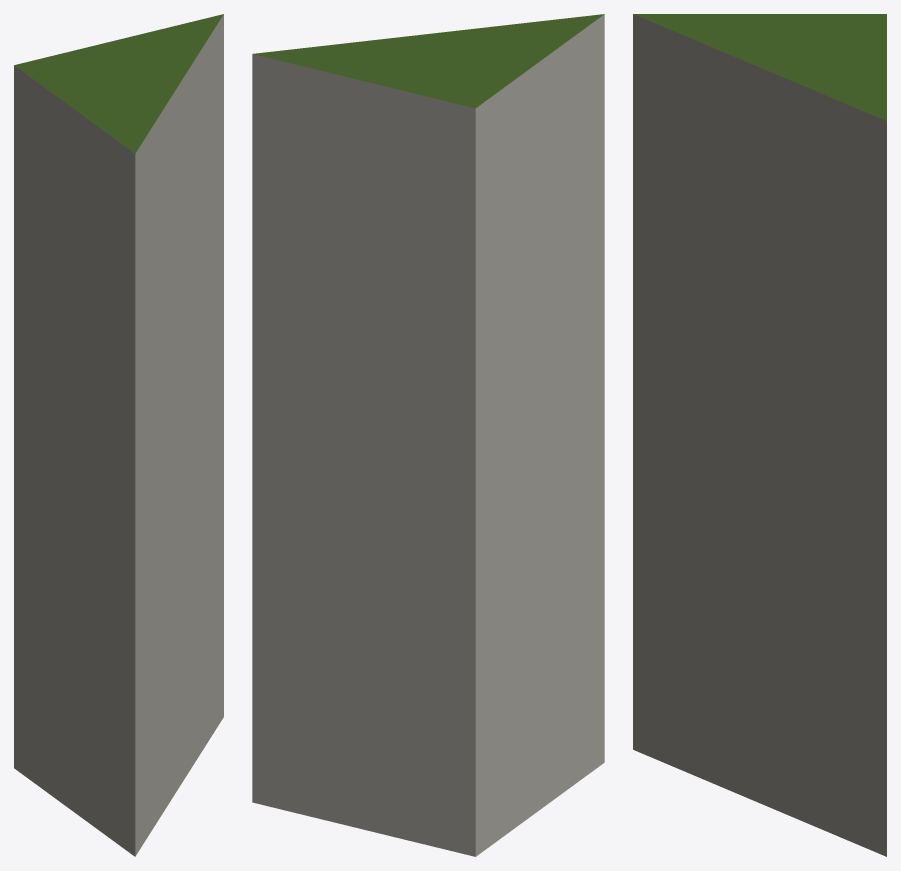
Rendered from Terrain_Modular_Tiles_Grass_Rock_Cliff_Side_Corner_01.fbx.
3 renders of one model, left to right at view 1: azimuth 30°, elevation 25°; view 2: azimuth 150°, elevation 25°; view 3: azimuth 270°, elevation 25°, orthographic. The views are drawn at different scales.
Parts seen in each view (by area): view 1: Terrain_Modular_Tiles_Grass_Rock_Cliff_Side_Corner_01; view 2: Terrain_Modular_Tiles_Grass_Rock_Cliff_Side_Corner_01; view 3: Terrain_Modular_Tiles_Grass_Rock_Cliff_Side_Corner_01.
Boxes of the visible parts, x1=… form: Terrain_Modular_Tiles_Grass_Rock_Cliff_Side_Corner_01: x1=14, y1=14, x2=223, y2=856; Terrain_Modular_Tiles_Grass_Rock_Cliff_Side_Corner_01: x1=252, y1=14, x2=604, y2=856; Terrain_Modular_Tiles_Grass_Rock_Cliff_Side_Corner_01: x1=633, y1=14, x2=886, y2=856.
Size of the model in its own units: 29.53 by 94.49 by 29.53.
